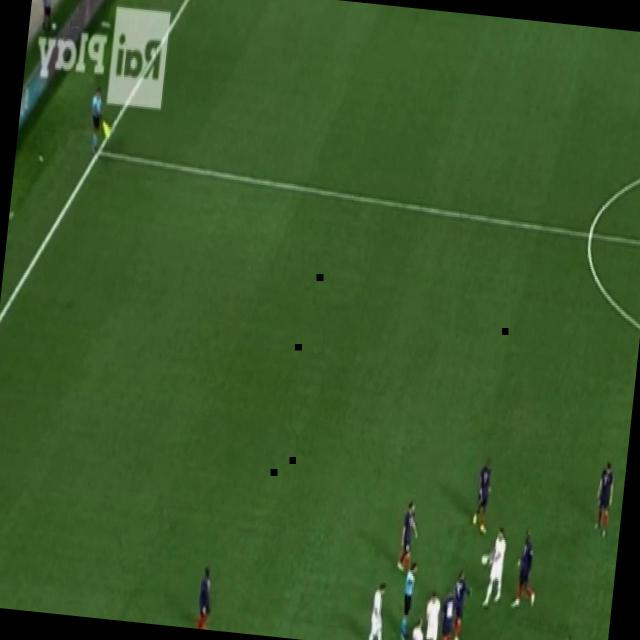ball: (479, 551, 490, 570)
player-white: (480, 526, 510, 614), (510, 527, 542, 609), (589, 458, 619, 544), (444, 567, 477, 640), (470, 455, 498, 539), (396, 561, 422, 640), (397, 497, 422, 579), (366, 577, 395, 640), (85, 84, 108, 158), (196, 558, 219, 630), (436, 588, 460, 640), (420, 589, 444, 640), (412, 614, 432, 640), (556, 629, 582, 640)
